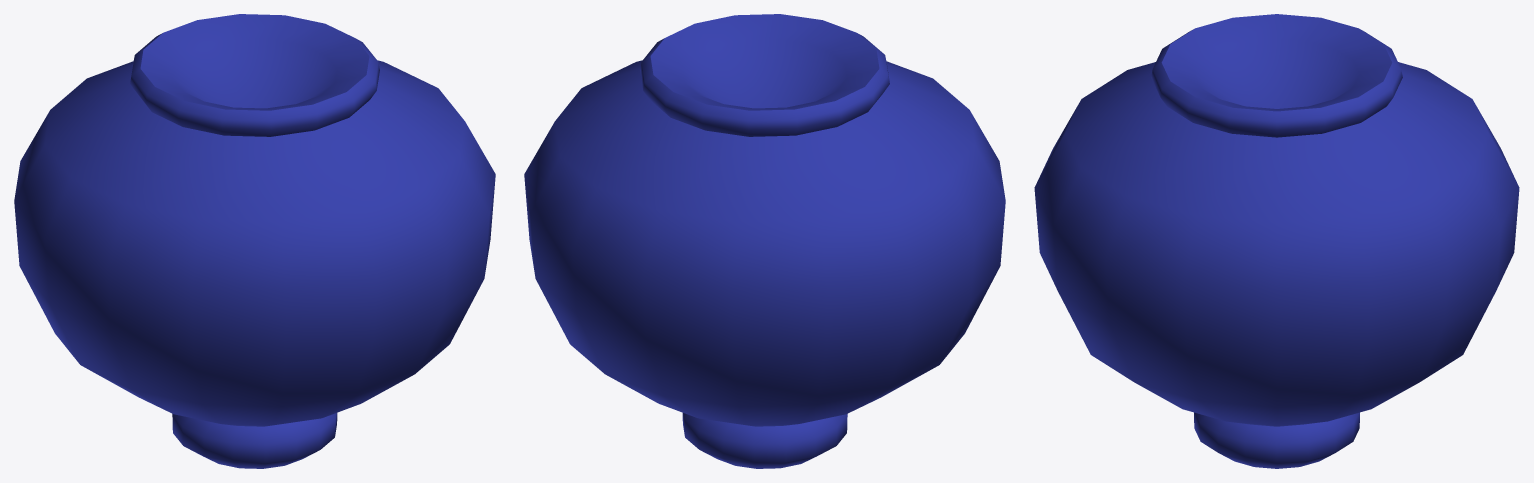
Rendered from vaso1.fbx.
The picture shows the model from 3 angles, left to right: view 1: azimuth 30°, elevation 25°; view 2: azimuth 150°, elevation 25°; view 3: azimuth 270°, elevation 25°; orthographic projection.
Parts seen in each view (by area): view 1: vaso_1; view 2: vaso_1; view 3: vaso_1.
Part boxes in pixels (left/top/right/bottom): vaso_1: left=14, top=14, right=495, bottom=468; vaso_1: left=524, top=14, right=1005, bottom=468; vaso_1: left=1034, top=14, right=1519, bottom=468.
Size of the model in its own units: 0.5918 by 0.5131 by 0.5918.
